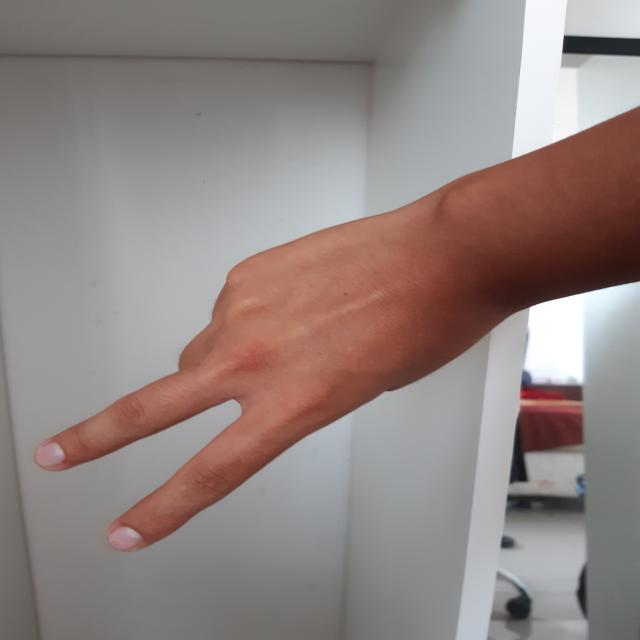EYE: (24, 179, 489, 565)
